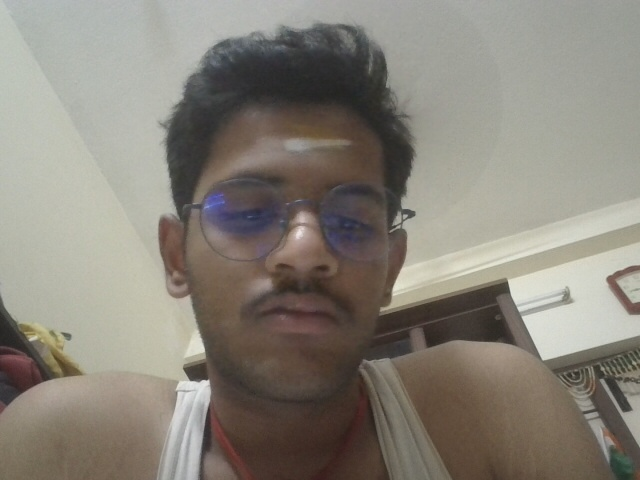real: (166, 103, 431, 368)
